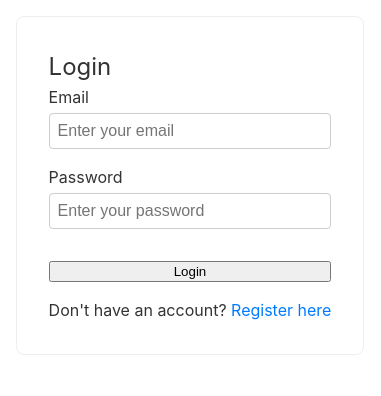
Test: LoginPage › displays error message on failed login (e.g. invalid credentials)
This screenshot has width=381, height=396.
Type "wrong@example.com" into the field labelled "Email". click: (190, 131)
box: [49,113,331,149]
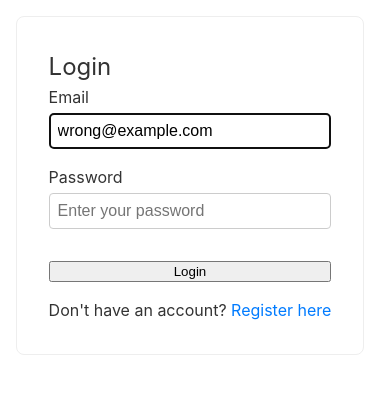
Type "wrongpassword" into the password field labelled "Password". click: (190, 211)
box: [49,193,331,229]
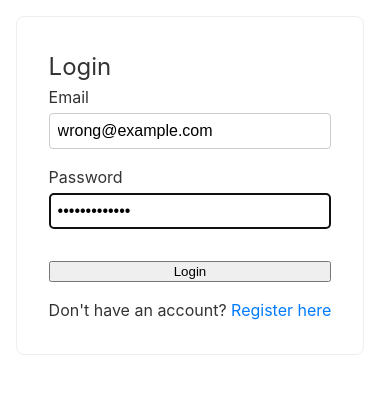
Click the button "Login". click: (190, 272)
box: [49,261,331,282]
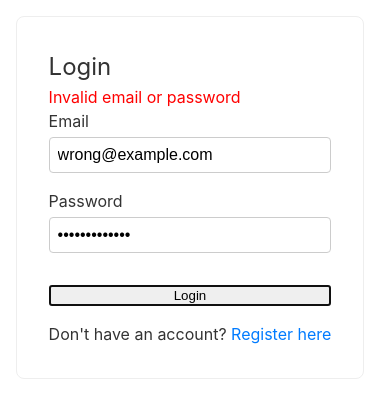
Now the text "Invalid email or password" is shown, box [49,87,240,107]
